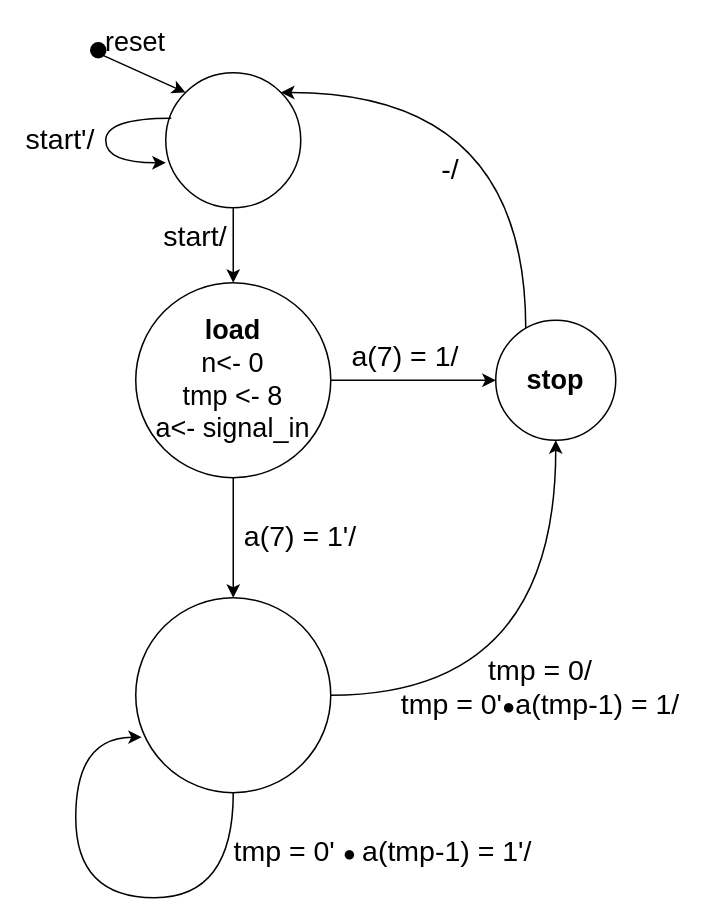
This 716x924 diagram has some shape labels left out. The shapes that lost their labels are listed below. From the top down, each one's centre as x and y in pixels, then its label:
At (x=232, y=139): "idle ready <=1".
At (x=232, y=694): "count n <- n+1 tmp <- tmp=1".
